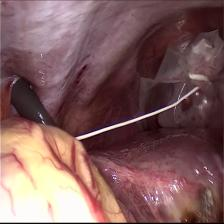Specimen Bag: (137, 22, 224, 139)
